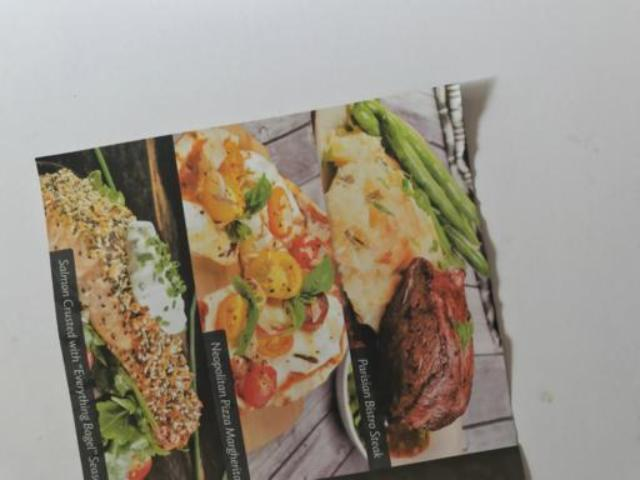cardboard paper: (35, 84, 519, 476)
